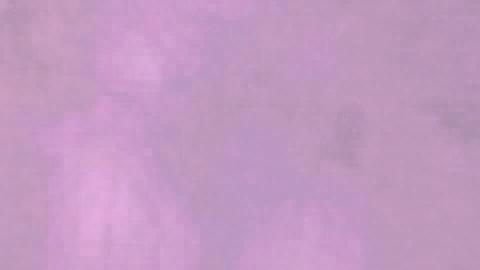tomato: (28, 148, 237, 268)
